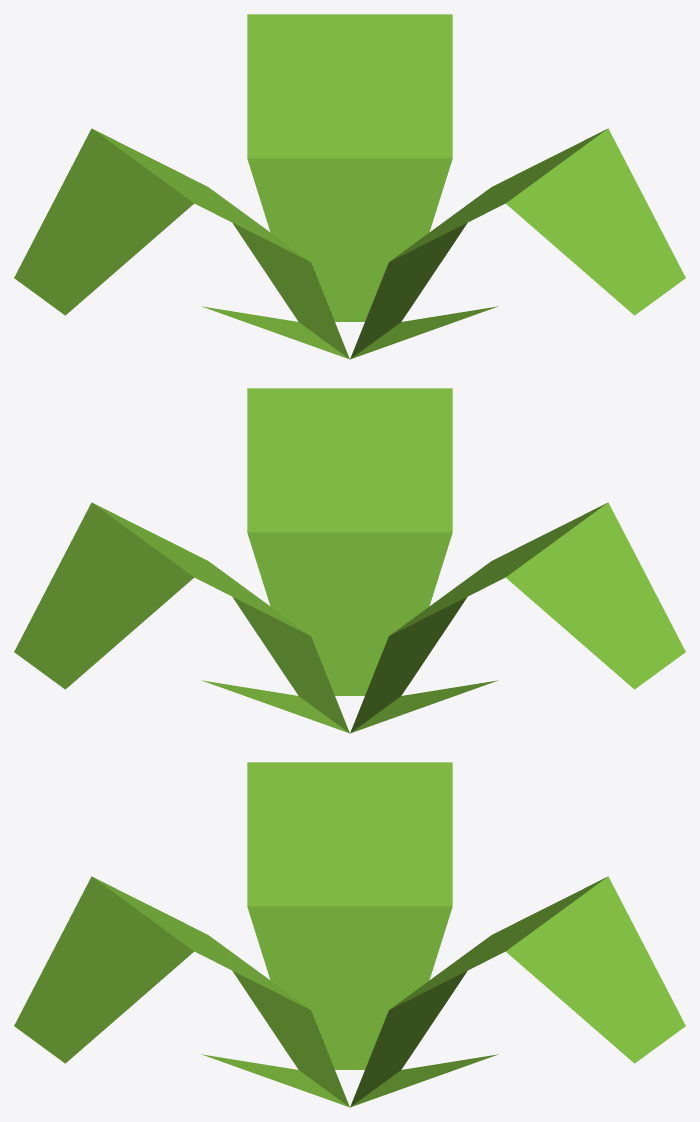
File: hedge.glb
3 renders of one model, top to bottom at view 1: azimuth 30°, elevation 25°; view 2: azimuth 150°, elevation 25°; view 3: azimuth 270°, elevation 25°, orthographic.
Visible parts, largest first — view 1: plant_bushLargeTriangle; view 2: plant_bushLargeTriangle; view 3: plant_bushLargeTriangle.
Part boxes in pixels (x1,y1,x2,y2): plant_bushLargeTriangle: (14, 14, 685, 359); plant_bushLargeTriangle: (14, 388, 685, 733); plant_bushLargeTriangle: (14, 762, 685, 1107).
Bounding box in the file's own units: 0.9785 × 0.4064 × 1.13.
